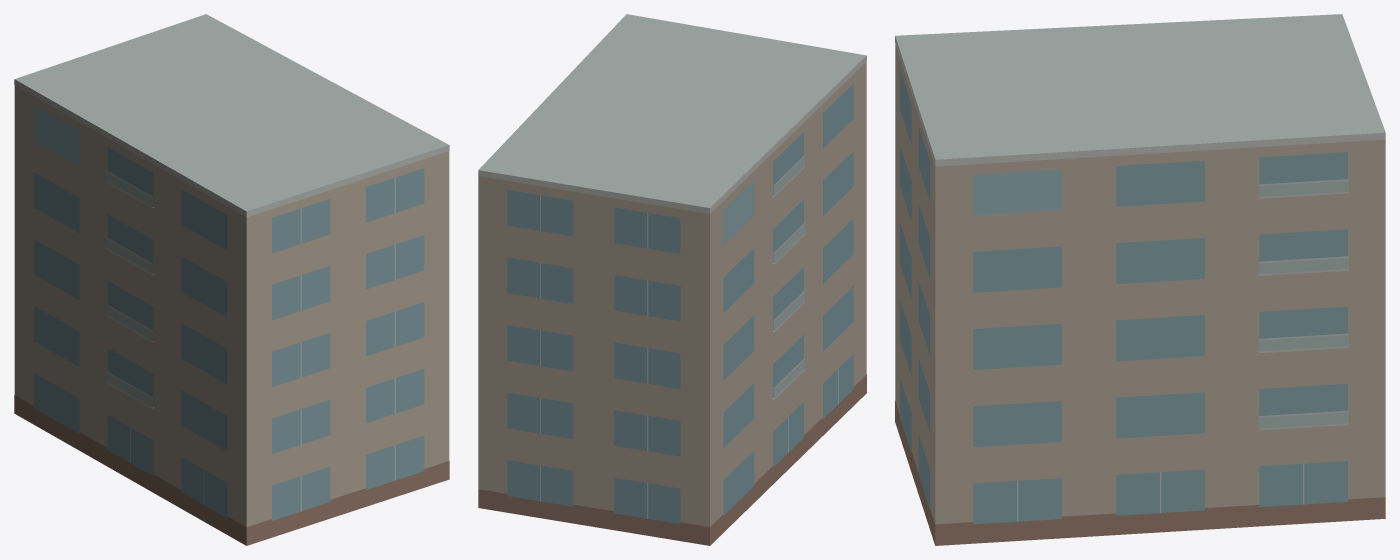
File: survey-upis-32747531.glb
The picture shows the model from 3 angles, left to right: view 1: azimuth 30°, elevation 25°; view 2: azimuth 150°, elevation 25°; view 3: azimuth 270°, elevation 25°; orthographic projection. The views are drawn at different scales.
Parts seen in each view (by area): view 1: survey-upis-32747531.tmp; view 2: survey-upis-32747531.tmp; view 3: survey-upis-32747531.tmp.
Boxes of the visible parts, box(x1,y1,x2,y2) form: survey-upis-32747531.tmp: box(14, 14, 449, 545); survey-upis-32747531.tmp: box(478, 14, 866, 545); survey-upis-32747531.tmp: box(895, 14, 1385, 545).
Size of the model in its own units: 11.18 by 13.8 by 15.9.
